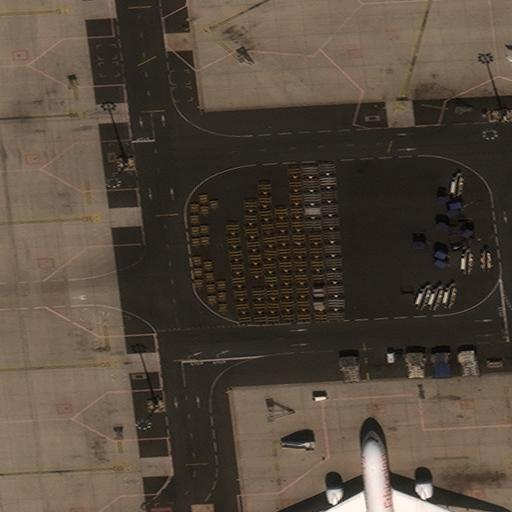Large Civil Transport: (294, 431, 479, 511)
